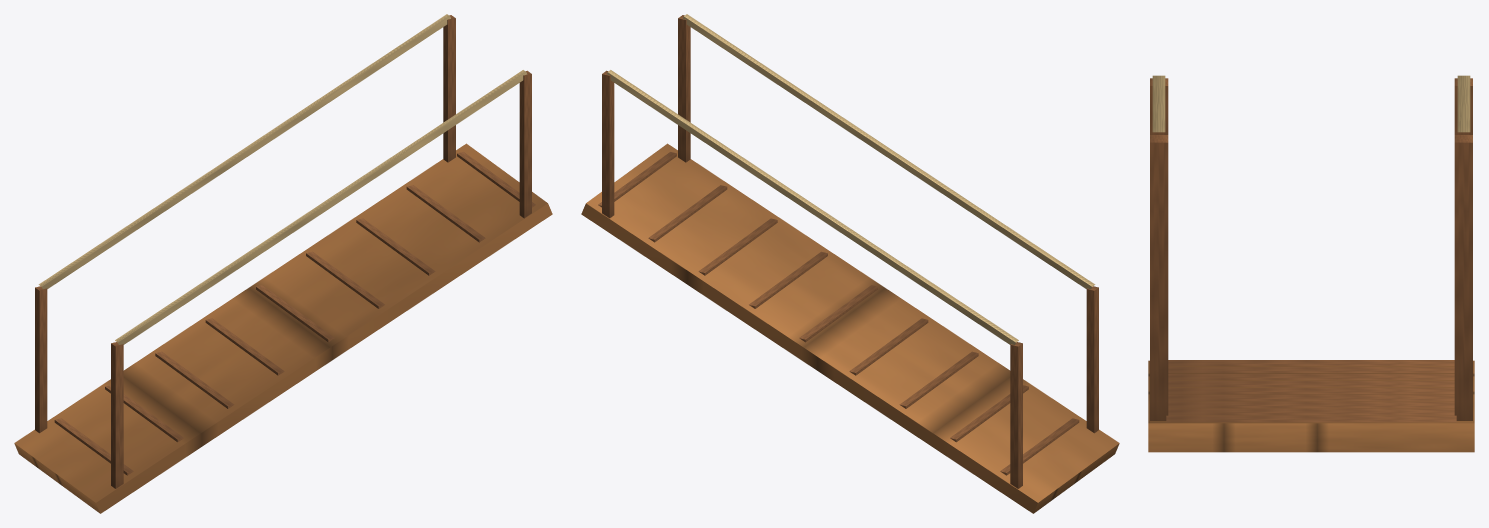
The model's file is dock_gangplank_01.glb.
The picture shows the model from 3 angles, left to right: view 1: azimuth 30°, elevation 25°; view 2: azimuth 150°, elevation 25°; view 3: azimuth 270°, elevation 25°; orthographic projection. The views are drawn at different scales.
Visible parts, largest first — view 1: dock_gangplank_01; view 2: dock_gangplank_01; view 3: dock_gangplank_01.
Boxes of the visible parts, box(x1,y1,x2,y2) form: dock_gangplank_01: box(14, 14, 552, 513); dock_gangplank_01: box(581, 14, 1119, 513); dock_gangplank_01: box(1148, 75, 1474, 452).
Size of the model in its own units: 2.91 by 2.05 by 0.9.
Materials: 1 (1 with a texture image).
